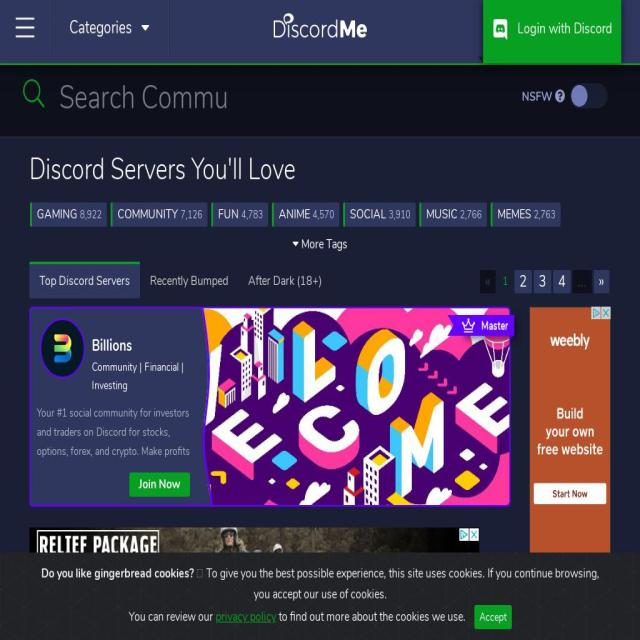button: (483, 0, 621, 63), (20, 152, 120, 200), (130, 152, 230, 200), (238, 152, 338, 200), (20, 208, 120, 256), (130, 208, 230, 256), (238, 208, 338, 256), (20, 264, 120, 312), (130, 264, 230, 312), (238, 264, 338, 312), (20, 320, 120, 368), (130, 320, 230, 368), (238, 320, 338, 368), (20, 41, 120, 88), (130, 41, 230, 88), (238, 41, 338, 88), (20, 97, 120, 144), (130, 97, 230, 144), (238, 97, 338, 144), (20, 376, 120, 423), (29, 262, 140, 298), (140, 262, 238, 298), (238, 262, 332, 298), (30, 449, 169, 473), (20, 0, 120, 32), (129, 0, 229, 32), (238, 0, 338, 32), (96, 295, 229, 319), (232, 295, 344, 319), (168, 326, 274, 350), (488, 388, 591, 412), (110, 202, 208, 226), (321, 357, 418, 381), (30, 388, 126, 412), (349, 326, 443, 350), (30, 234, 123, 258), (514, 418, 604, 442), (127, 234, 214, 258), (517, 264, 604, 288), (237, 264, 322, 288), (168, 357, 252, 381), (83, 264, 166, 288), (218, 234, 300, 258), (517, 326, 598, 350), (206, 388, 285, 412), (440, 234, 518, 258), (426, 295, 504, 319), (30, 202, 107, 226), (348, 295, 423, 319), (30, 357, 104, 381), (343, 202, 416, 226), (364, 234, 436, 258), (92, 326, 164, 350), (130, 388, 202, 412), (30, 418, 101, 442), (490, 202, 560, 226), (288, 388, 358, 412), (414, 388, 484, 412), (104, 418, 174, 442), (441, 418, 511, 442), (310, 418, 379, 442), (419, 202, 487, 226), (278, 326, 346, 350), (177, 418, 245, 442), (272, 202, 339, 226), (446, 264, 513, 288), (447, 326, 513, 350), (521, 234, 585, 258), (170, 264, 234, 288), (130, 472, 190, 497), (30, 295, 92, 319), (255, 357, 317, 381), (384, 264, 442, 288), (30, 326, 88, 350), (211, 202, 268, 226), (304, 234, 361, 258), (249, 418, 306, 442), (108, 357, 164, 381), (474, 357, 530, 381), (382, 418, 438, 442), (326, 264, 380, 288), (30, 264, 79, 288), (361, 388, 410, 412), (422, 357, 470, 381), (508, 295, 551, 319), (92, 334, 132, 358), (474, 605, 512, 629), (461, 318, 508, 332), (198, 621, 244, 635), (365, 621, 411, 635), (32, 621, 77, 635), (572, 270, 592, 293), (514, 270, 532, 293), (553, 270, 571, 293), (534, 270, 551, 293), (498, 272, 512, 291)
field: (50, 75, 365, 120)
heading: (29, 152, 610, 188)
iframe: (29, 528, 480, 602), (529, 306, 610, 640)
image: (190, 308, 213, 505), (197, 611, 343, 640), (31, 611, 176, 640), (364, 611, 509, 640), (266, 12, 374, 45), (40, 317, 82, 375), (570, 84, 608, 108)
link: (215, 607, 276, 626), (92, 359, 137, 375), (144, 359, 179, 375), (92, 378, 127, 393)
text: (193, 564, 599, 604), (37, 403, 191, 480), (276, 607, 468, 626), (40, 564, 194, 583), (37, 452, 154, 470), (511, 18, 612, 38), (103, 297, 209, 316), (128, 607, 216, 626), (70, 16, 138, 40), (240, 297, 324, 316), (175, 328, 254, 347), (495, 390, 571, 408), (328, 359, 398, 378), (356, 328, 423, 347), (37, 390, 106, 408), (522, 421, 590, 439), (258, 162, 318, 181), (118, 205, 180, 223), (174, 359, 232, 378), (42, 218, 99, 237), (524, 267, 584, 285), (37, 236, 96, 254), (524, 328, 578, 347), (134, 236, 187, 254), (434, 297, 484, 316), (213, 390, 265, 408), (154, 330, 205, 348), (244, 267, 295, 285), (355, 297, 403, 316), (224, 236, 274, 254), (298, 235, 348, 253), (37, 359, 84, 378), (90, 267, 139, 285), (156, 274, 202, 293), (98, 328, 144, 347), (448, 421, 496, 439), (24, 182, 117, 191), (133, 182, 226, 191), (24, 238, 117, 247), (133, 238, 226, 247), (24, 294, 117, 303), (133, 294, 226, 303), (242, 182, 334, 191), (242, 238, 334, 247), (242, 294, 334, 303), (446, 236, 491, 254), (137, 390, 182, 408), (284, 328, 326, 347), (158, 51, 202, 69), (420, 390, 464, 408), (37, 421, 81, 439), (49, 386, 92, 404), (37, 205, 80, 223), (268, 274, 308, 293), (296, 390, 338, 408), (111, 421, 153, 439), (317, 421, 359, 439), (24, 15, 117, 23), (133, 15, 226, 23), (24, 71, 117, 79), (133, 71, 226, 79), (24, 127, 117, 135), (133, 127, 226, 135), (24, 350, 117, 358), (133, 350, 226, 358), (24, 406, 117, 414), (454, 328, 493, 347), (184, 421, 225, 439), (242, 15, 334, 23), (242, 71, 334, 79), (242, 127, 334, 135), (242, 350, 334, 358), (50, 51, 90, 69), (453, 267, 493, 285), (350, 205, 389, 223), (371, 236, 409, 254), (162, 162, 197, 181), (162, 218, 197, 237), (37, 297, 72, 316), (262, 359, 297, 378), (52, 330, 88, 348), (498, 205, 534, 223), (521, 87, 555, 106), (271, 330, 305, 348), (278, 205, 312, 223), (426, 205, 460, 223), (272, 107, 304, 125), (390, 421, 422, 439), (56, 274, 86, 293), (37, 328, 67, 347), (114, 359, 144, 378), (480, 359, 510, 378), (55, 107, 86, 125), (391, 267, 422, 285), (528, 236, 558, 254), (177, 267, 207, 285), (256, 421, 286, 439), (274, 218, 302, 237), (332, 267, 360, 285), (58, 162, 84, 181), (166, 107, 193, 125), (269, 0, 306, 13), (275, 51, 301, 69), (53, 0, 88, 13), (162, 0, 196, 13), (208, 622, 244, 634), (42, 622, 77, 634), (218, 205, 241, 223), (311, 236, 334, 254), (376, 622, 410, 634), (429, 359, 450, 378), (368, 390, 390, 408), (408, 238, 431, 254), (96, 238, 118, 254), (187, 238, 209, 254), (273, 238, 295, 254), (334, 238, 356, 254), (490, 238, 512, 254), (558, 238, 580, 254), (481, 319, 508, 332), (52, 269, 74, 284), (140, 269, 162, 284), (207, 269, 229, 284), (295, 269, 317, 284), (388, 208, 411, 222), (80, 208, 102, 222), (180, 208, 202, 222), (241, 208, 263, 222), (312, 208, 334, 222), (460, 208, 482, 222), (534, 208, 556, 222), (515, 297, 531, 316), (37, 267, 52, 285), (106, 392, 122, 408), (182, 392, 198, 408), (464, 392, 480, 408), (360, 269, 376, 284), (584, 269, 600, 284), (72, 300, 88, 315), (208, 300, 224, 315), (324, 300, 340, 315), (402, 300, 418, 315), (484, 300, 500, 315), (530, 300, 546, 315), (144, 331, 160, 346), (265, 392, 280, 408), (390, 392, 405, 408), (422, 269, 437, 284), (493, 269, 508, 284), (423, 331, 438, 346), (493, 331, 508, 346), (578, 331, 593, 346), (510, 362, 526, 376), (338, 392, 352, 408), (572, 392, 586, 408), (80, 424, 96, 438), (286, 424, 302, 438), (358, 424, 374, 438), (68, 331, 82, 346), (254, 331, 268, 346), (326, 331, 340, 346), (398, 362, 413, 376), (450, 362, 465, 376), (153, 424, 168, 438), (225, 424, 240, 438), (84, 362, 98, 376), (144, 362, 158, 376), (232, 362, 246, 376), (298, 362, 312, 376), (154, 454, 164, 469), (422, 424, 432, 438), (496, 424, 506, 438), (590, 424, 600, 438), (137, 359, 144, 375), (178, 359, 184, 375)
